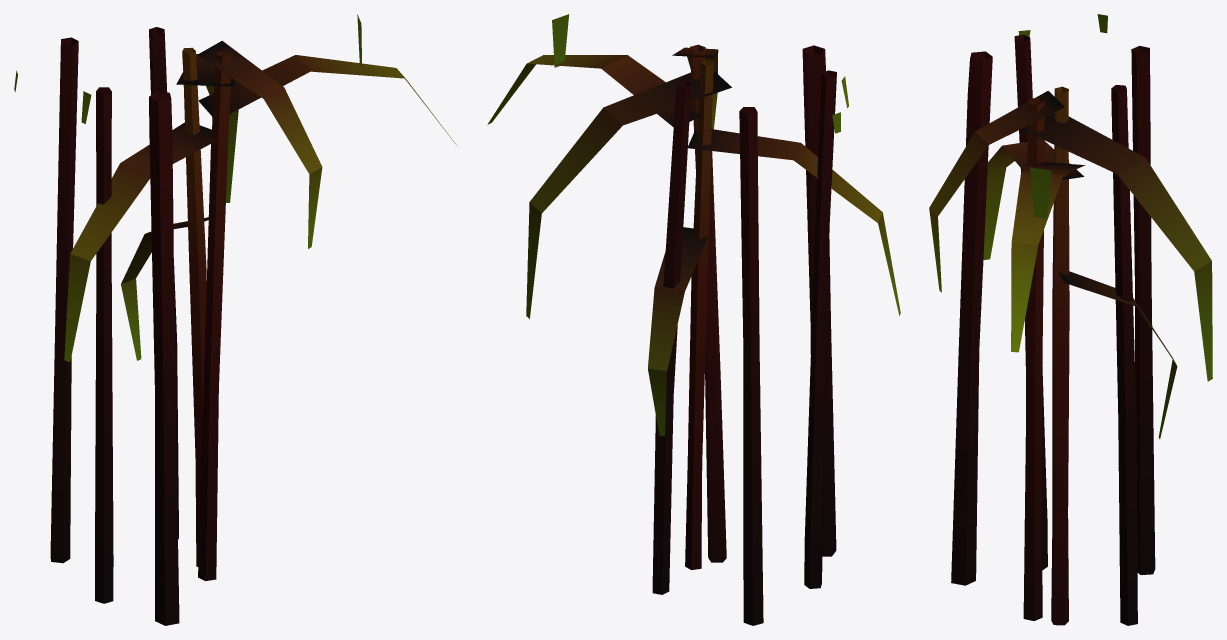
The model's file is bamboo_c_stem.glb.
3 renders of one model, left to right at view 1: azimuth 30°, elevation 25°; view 2: azimuth 150°, elevation 25°; view 3: azimuth 270°, elevation 25°, orthographic. The views are drawn at different scales.
Visible parts, largest first — view 1: bamboo_c_mid; view 2: bamboo_c_mid; view 3: bamboo_c_mid.
Boxes of the visible parts, bbox=[...] form: bamboo_c_mid: bbox=[14, 14, 456, 625]; bamboo_c_mid: bbox=[487, 14, 900, 625]; bamboo_c_mid: bbox=[929, 14, 1212, 625].
Size of the model in its own units: 1.46 by 1.78 by 0.8725.
1 material, 1 textured.
